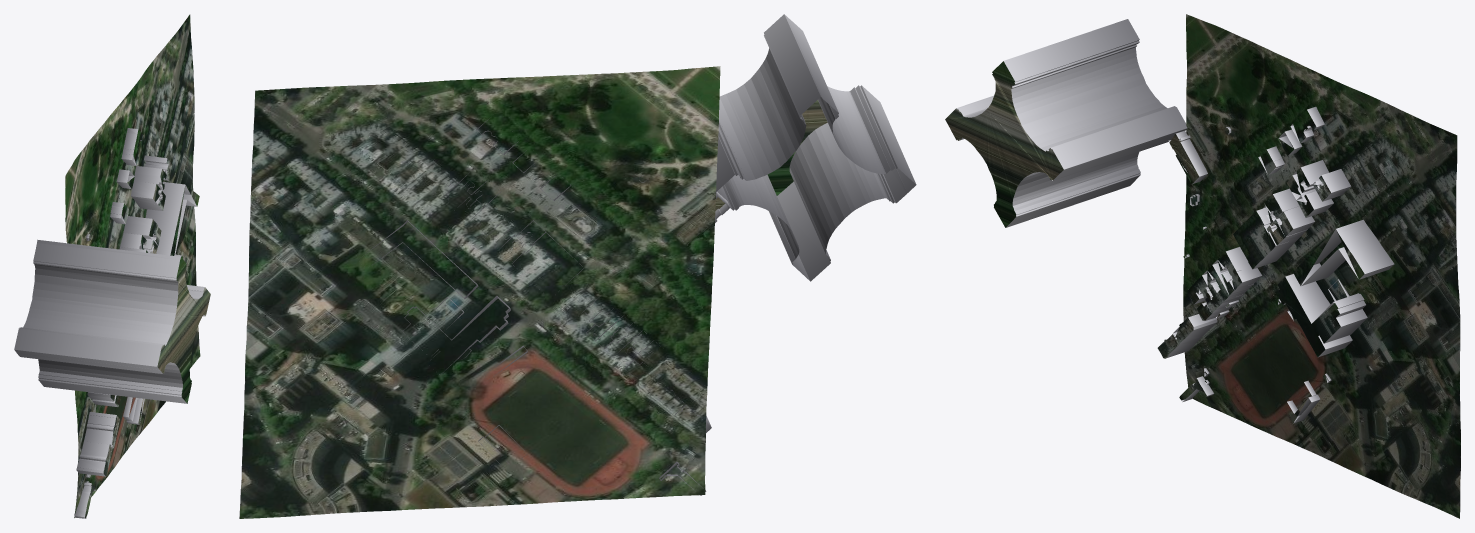
3 renders of one model, left to right at view 1: azimuth 30°, elevation 25°; view 2: azimuth 150°, elevation 25°; view 3: azimuth 270°, elevation 25°, orthographic. The views are drawn at different scales.
Size of the model in its own units: 445 by 416 by 499.
1 material, 1 textured.
